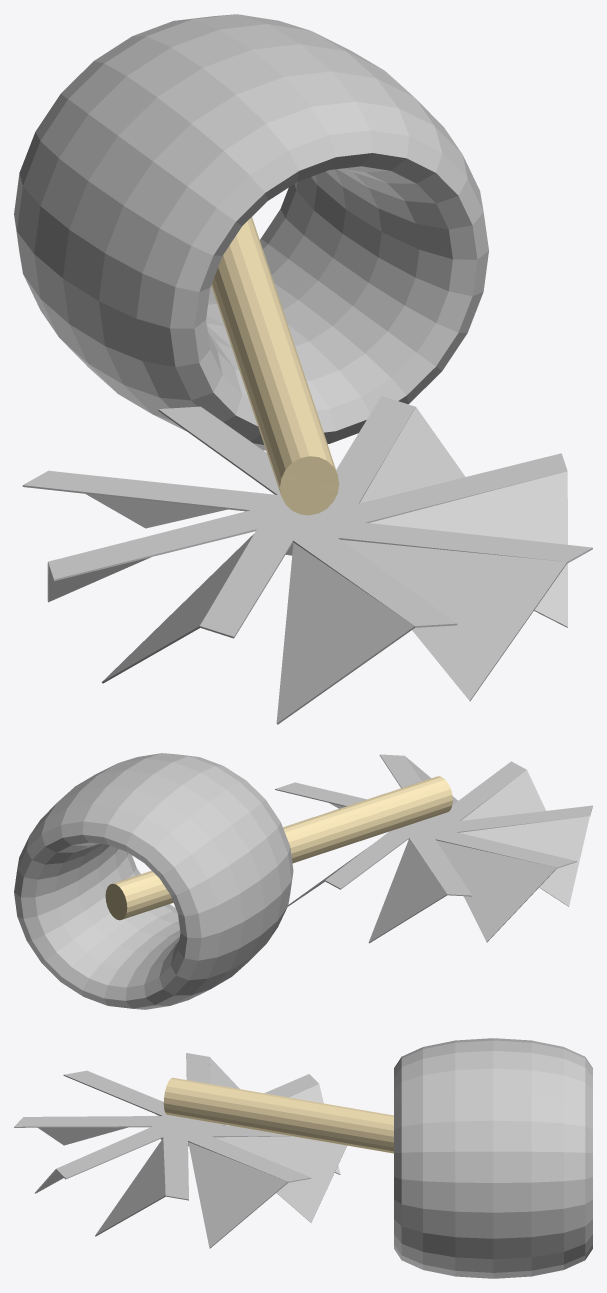
The model's file is reilete.obj.
3 views of the same model, one above another, from view 1: azimuth 30°, elevation 25°; view 2: azimuth 150°, elevation 25°; view 3: azimuth 270°, elevation 25° (orthographic). The views are drawn at different scales.
Parts seen in each view (by area): view 1: group_0_11107152, group_0_15277357, group_0_16311991; view 2: group_0_11107152, group_0_15277357, group_0_16311991; view 3: group_0_11107152, group_0_15277357, group_0_16311991.
Boxes of the visible parts, bbox=[...] form: group_0_11107152: bbox=[14, 14, 488, 450]; group_0_15277357: bbox=[22, 396, 592, 724]; group_0_16311991: bbox=[211, 217, 339, 515]; group_0_11107152: bbox=[14, 753, 293, 1009]; group_0_15277357: bbox=[275, 754, 592, 943]; group_0_16311991: bbox=[105, 776, 452, 920]; group_0_11107152: bbox=[394, 1038, 592, 1278]; group_0_15277357: bbox=[14, 1053, 346, 1248]; group_0_16311991: bbox=[163, 1077, 393, 1153].
Size of the model in its own units: 137 by 74 by 180.
